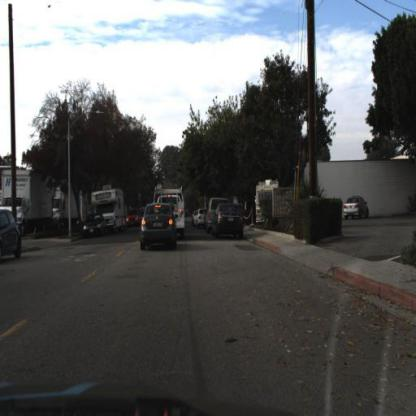car: (133, 195, 183, 257), (153, 184, 187, 234), (208, 203, 246, 245), (212, 199, 247, 243), (170, 182, 192, 245), (0, 208, 23, 262), (337, 188, 373, 221), (79, 210, 107, 243), (342, 194, 371, 223), (105, 187, 123, 232), (79, 214, 106, 241), (192, 201, 207, 235), (204, 195, 216, 236), (188, 209, 206, 233), (125, 209, 142, 232)
truck: (13, 164, 54, 244), (1, 161, 53, 219), (53, 172, 84, 239), (92, 187, 127, 233)
